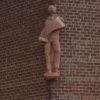Statue: (29, 4, 72, 81)
